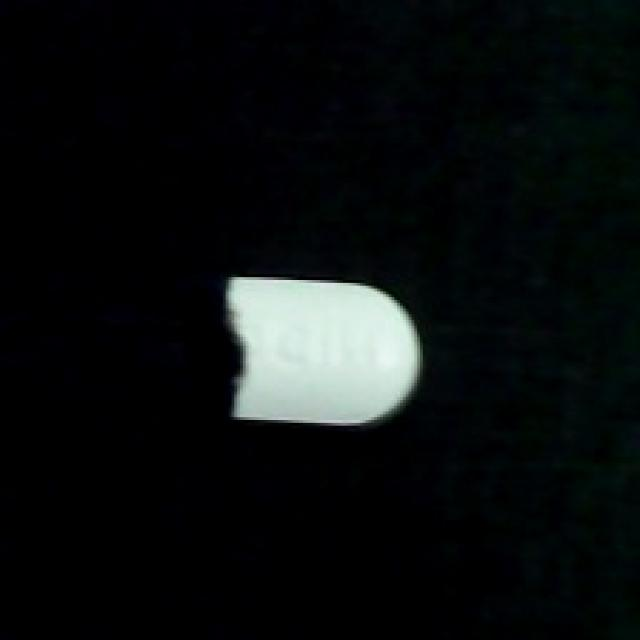defected: (223, 266, 426, 434)
